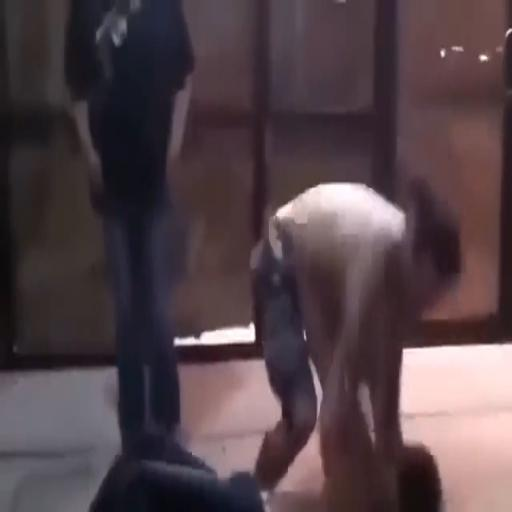violencia: (233, 156, 482, 512)
